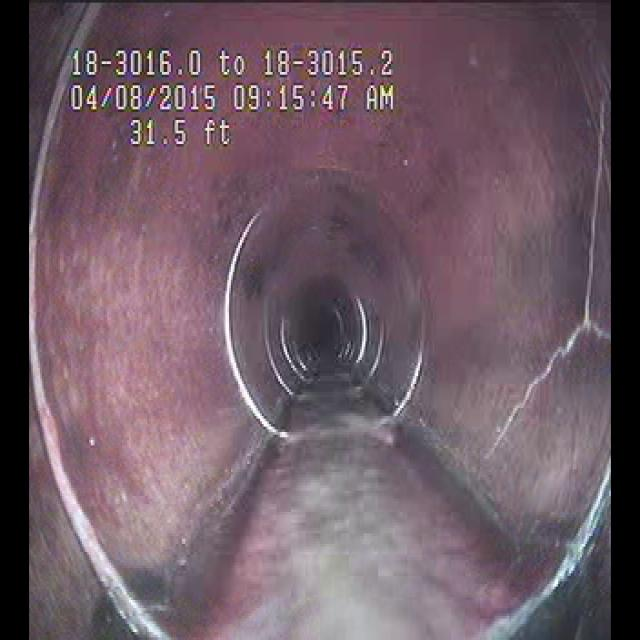Crack: (475, 302, 615, 469)
